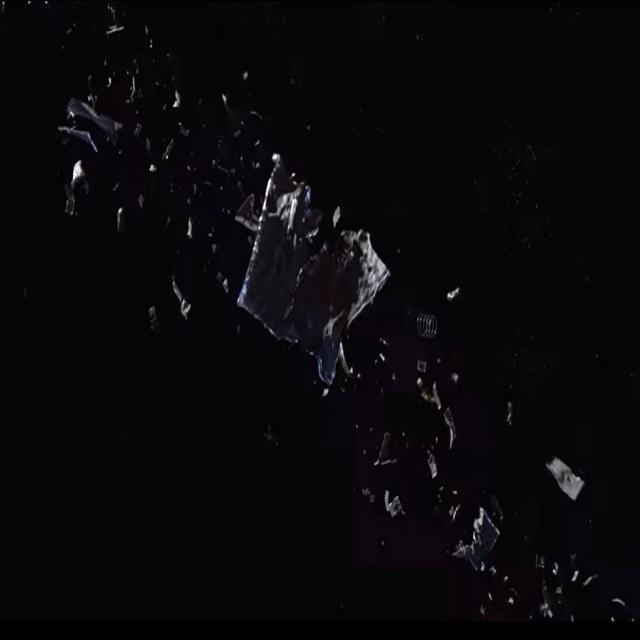large_debris: (227, 133, 396, 405), (54, 85, 123, 158), (449, 498, 501, 580), (536, 438, 592, 513), (58, 155, 92, 224), (412, 302, 444, 351), (168, 264, 192, 326), (370, 430, 400, 476), (412, 372, 442, 414), (380, 482, 409, 522), (438, 402, 460, 452), (418, 445, 439, 485), (441, 282, 463, 306), (412, 355, 428, 374)
